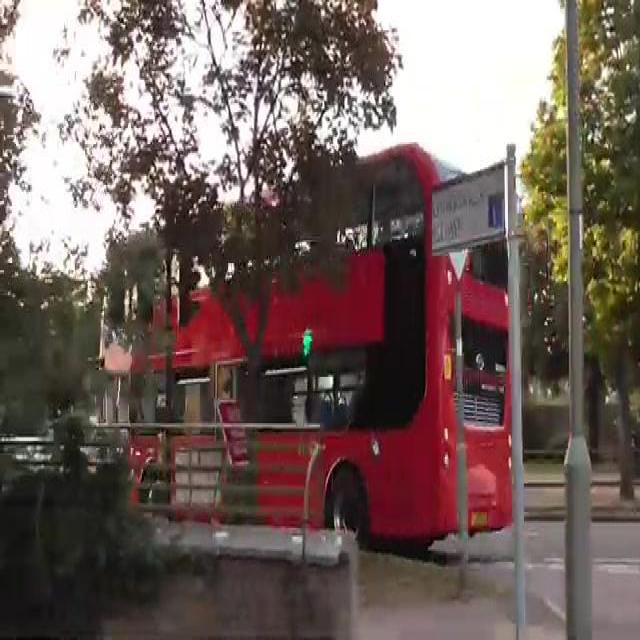motorcycle: (28, 146, 507, 581)
